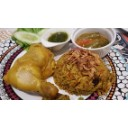briyani: (11, 44, 113, 98)
